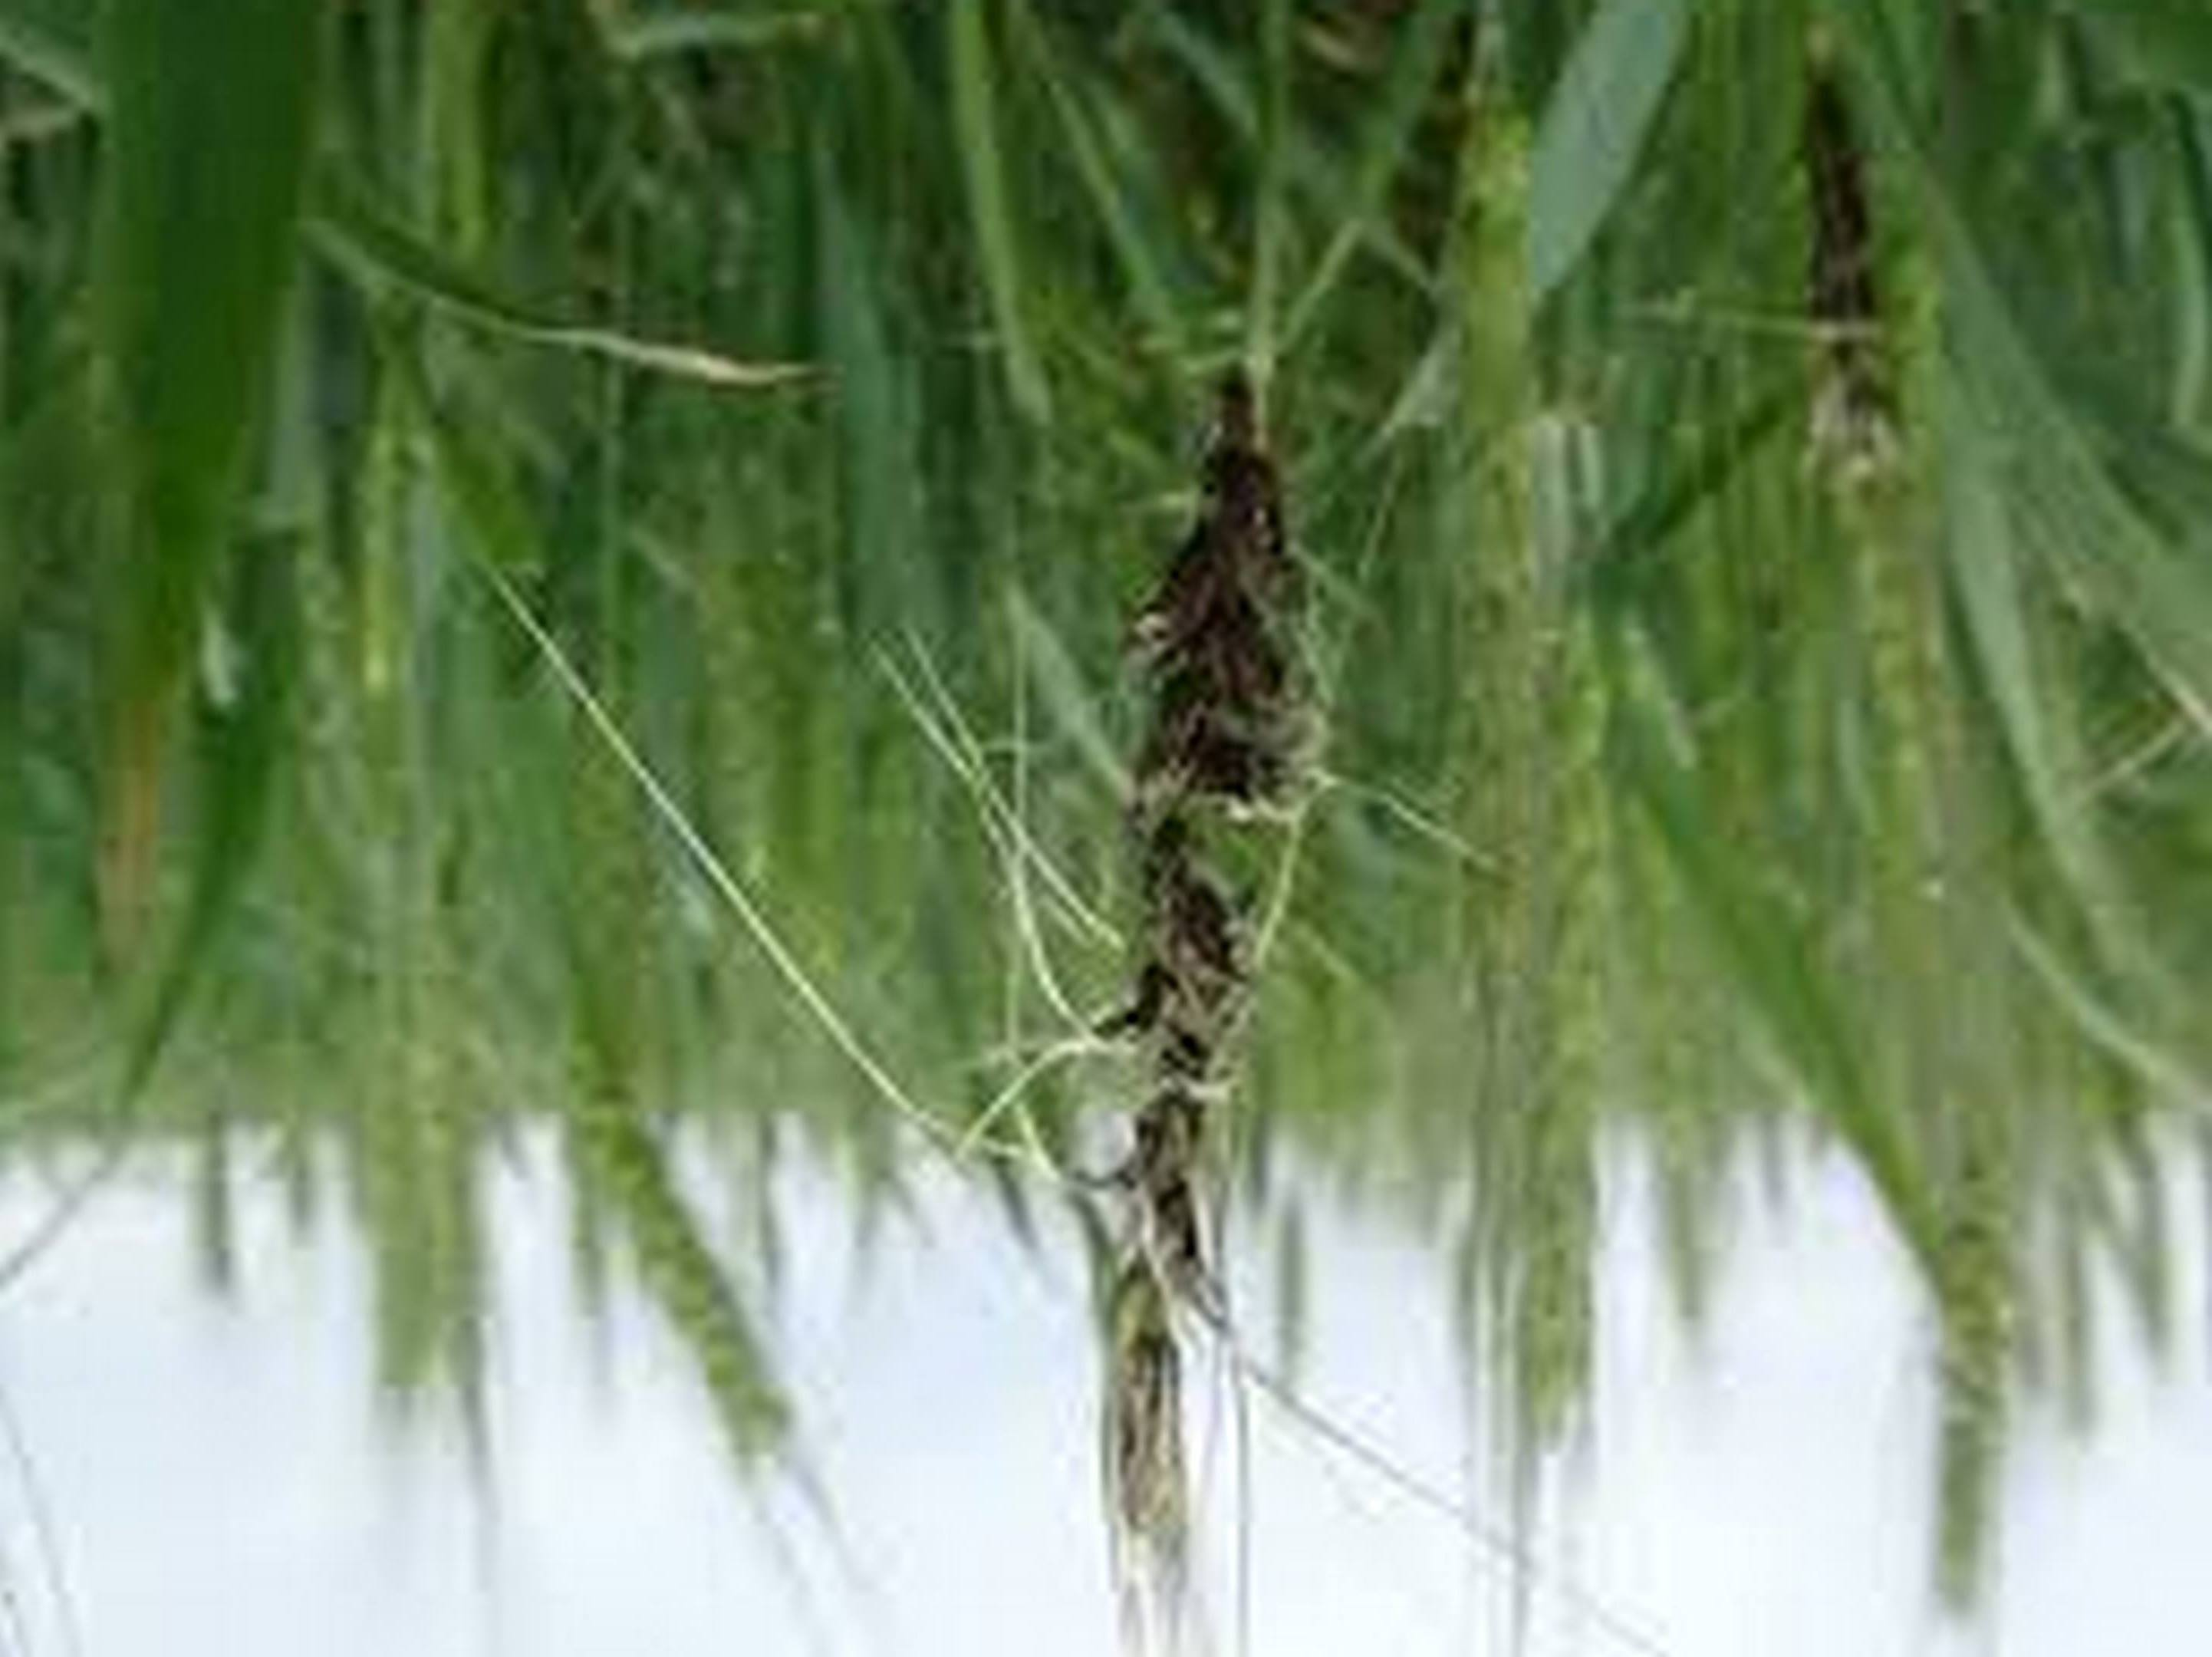Wheat Loose Smut: (1074, 406, 1351, 1450)
